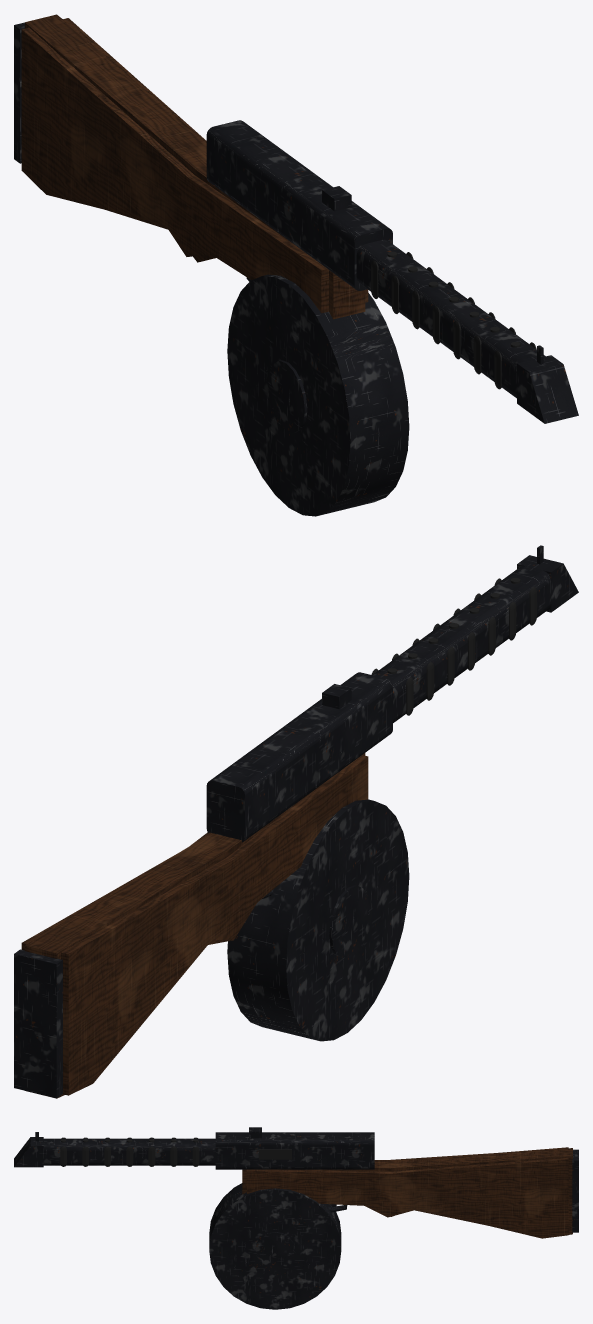
Rendered from ppsh.glb.
3 renders of one model, top to bottom at view 1: azimuth 30°, elevation 25°; view 2: azimuth 150°, elevation 25°; view 3: azimuth 270°, elevation 25°, orthographic. The views are drawn at different scales.
Visible parts, largest first — view 1: PPSh_41; view 2: PPSh_41; view 3: PPSh_41.
Part boxes in pixels (<box>): PPSh_41: <box>14,14,578,516</box>; PPSh_41: <box>14,545,578,1098</box>; PPSh_41: <box>14,1127,578,1309</box>.
Bounding box in the file's own units: 0.06 × 0.288 × 0.854.
3 materials, 2 textured.
